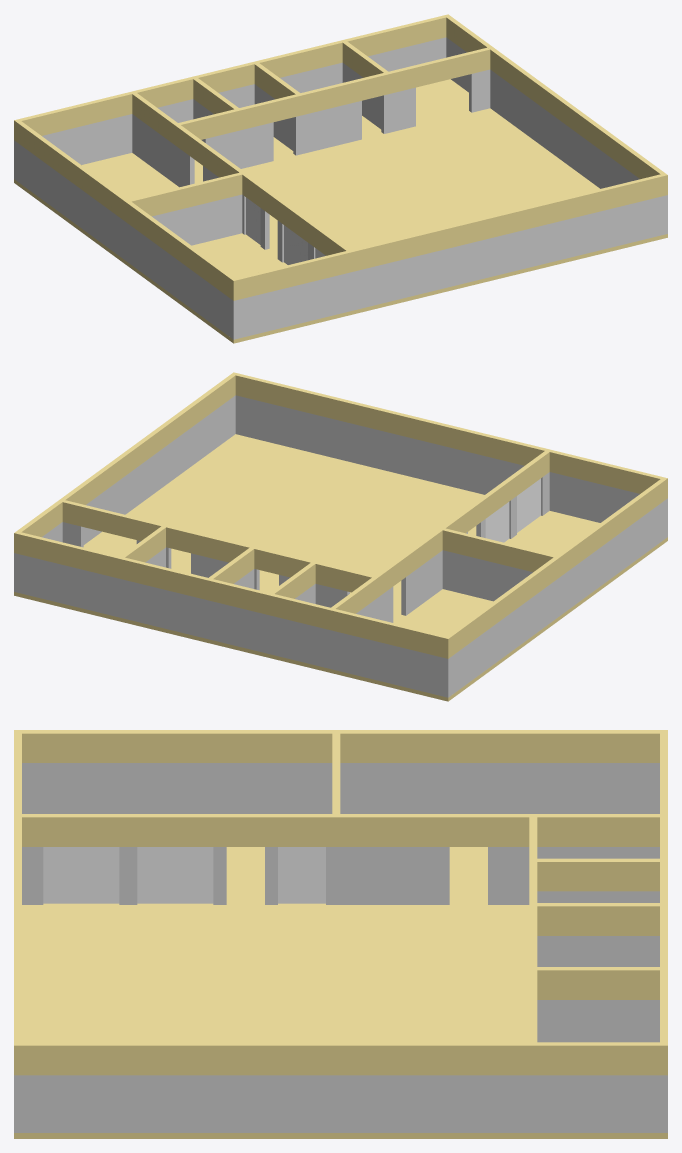
File: Level_3_Structure.fbx
The picture shows the model from 3 angles, top to bottom: view 1: azimuth 30°, elevation 25°; view 2: azimuth 150°, elevation 25°; view 3: azimuth 270°, elevation 25°; orthographic projection. The views are drawn at different scales.
Parts seen in each view (by area): view 1: L3_MainWalls, L3_UpperWalls, L3_Floor, ConfWindows; view 2: L3_MainWalls, L3_UpperWalls, L3_Floor, ConfWindows; view 3: L3_MainWalls, L3_UpperWalls, L3_Floor, ConfWindows.
Part boxes in pixels (x1,y1,x2,y2): L3_MainWalls: [14, 37, 667, 339]; L3_UpperWalls: [14, 14, 667, 300]; L3_Floor: [14, 79, 667, 343]; ConfWindows: [246, 197, 325, 264]; L3_MainWalls: [14, 395, 667, 697]; L3_UpperWalls: [14, 372, 667, 658]; L3_Floor: [14, 434, 667, 701]; ConfWindows: [485, 478, 540, 542]; L3_MainWalls: [14, 763, 667, 1132]; L3_UpperWalls: [14, 730, 667, 1075]; L3_Floor: [14, 847, 667, 1138]; ConfWindows: [43, 847, 325, 903].
Bounding box in the file's own units: 2340 × 322 × 2050.
